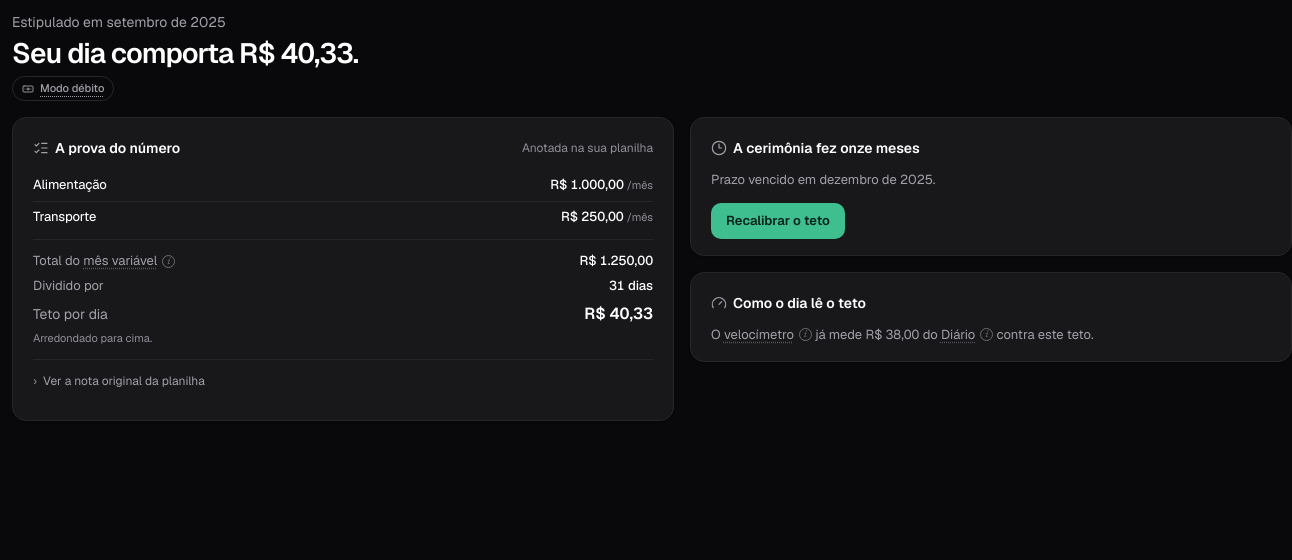
Scenario: TetoScreen › divisor vazio recusa com calma: erro inline e avanço bloqueado
Click the button "Recalibrar o teto" at (778, 221), box [711, 203, 845, 239]
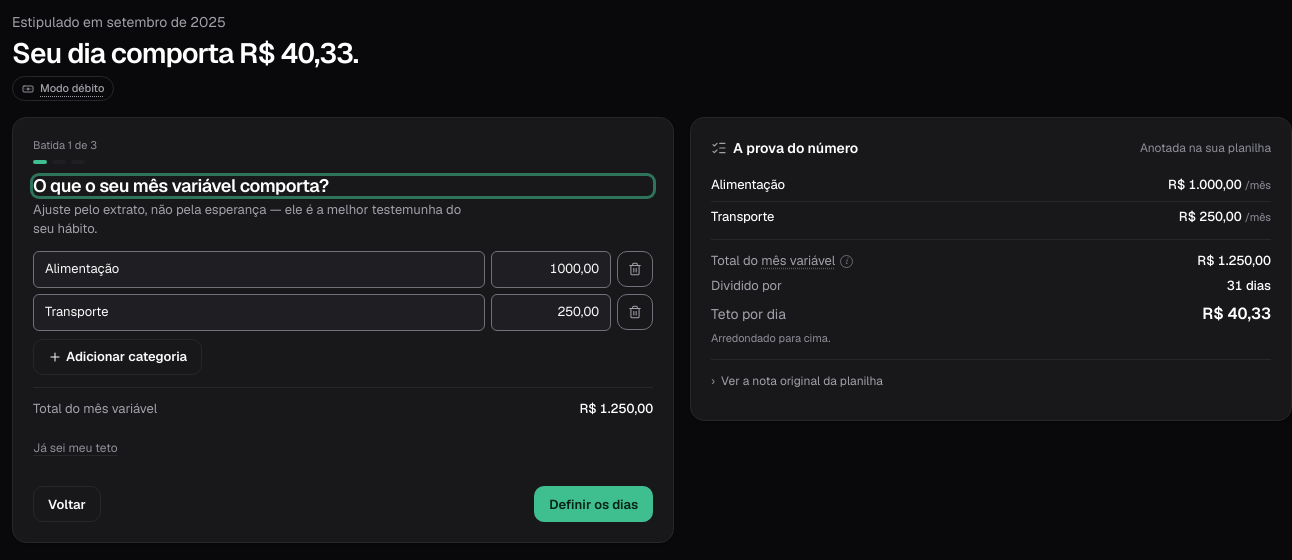
Click the button "Definir os dias" at (594, 504), box [534, 486, 653, 522]
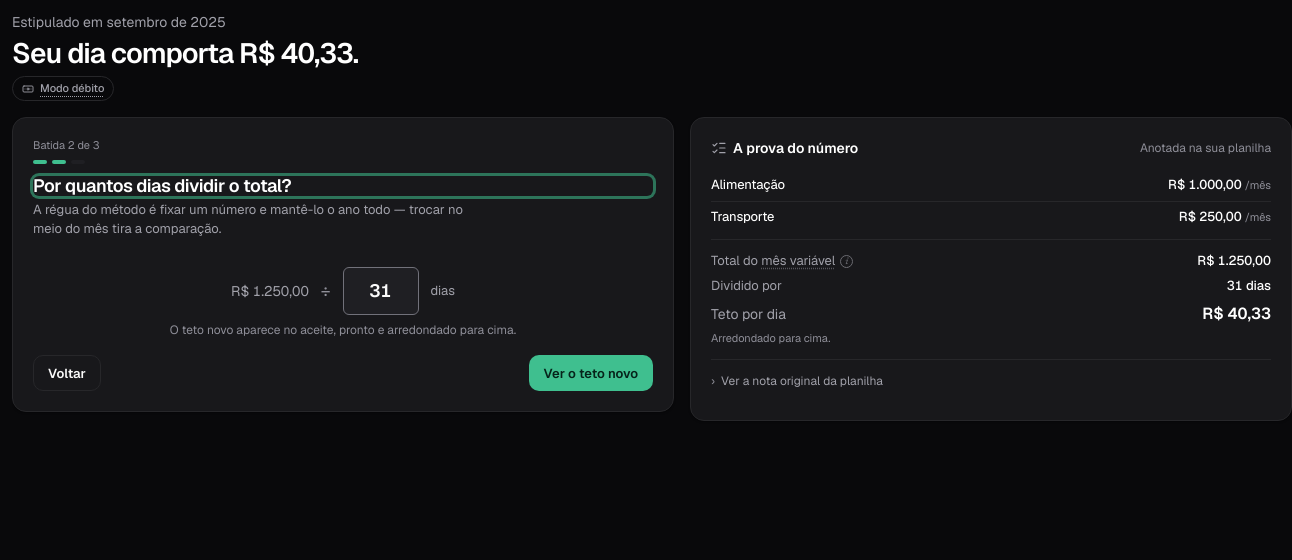
Clear the field named "Divisor de dias" at (381, 291), box [343, 267, 419, 315]
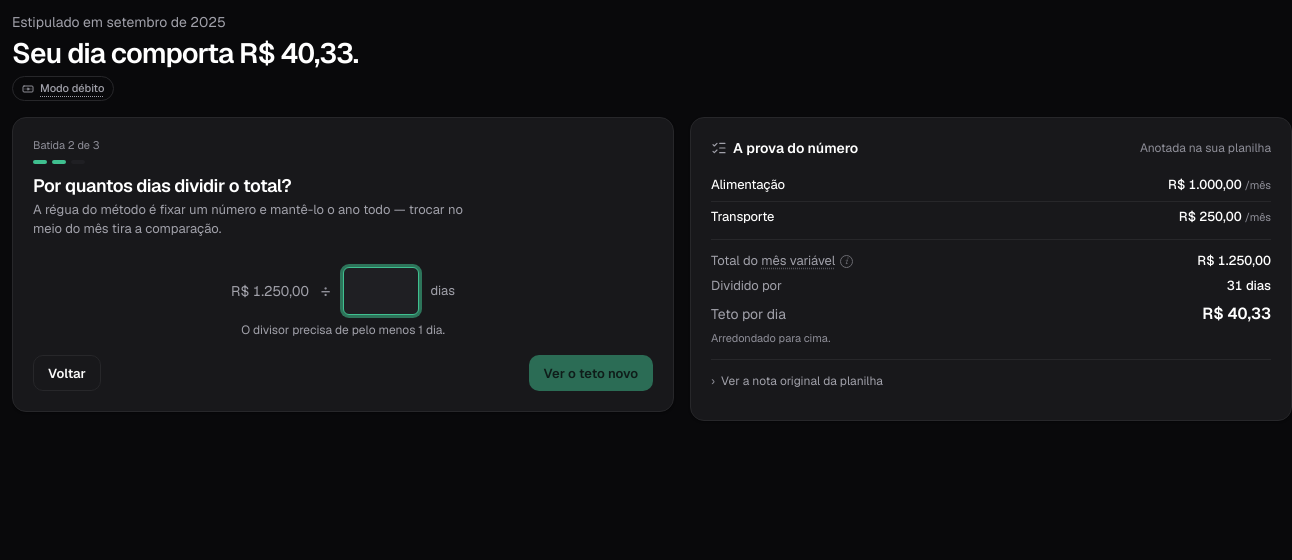
Now the message shows "pelo menos 1 dia", box [241, 322, 445, 338]
Now the button "Ver o teto novo" is disabled, box [528, 355, 653, 391]
